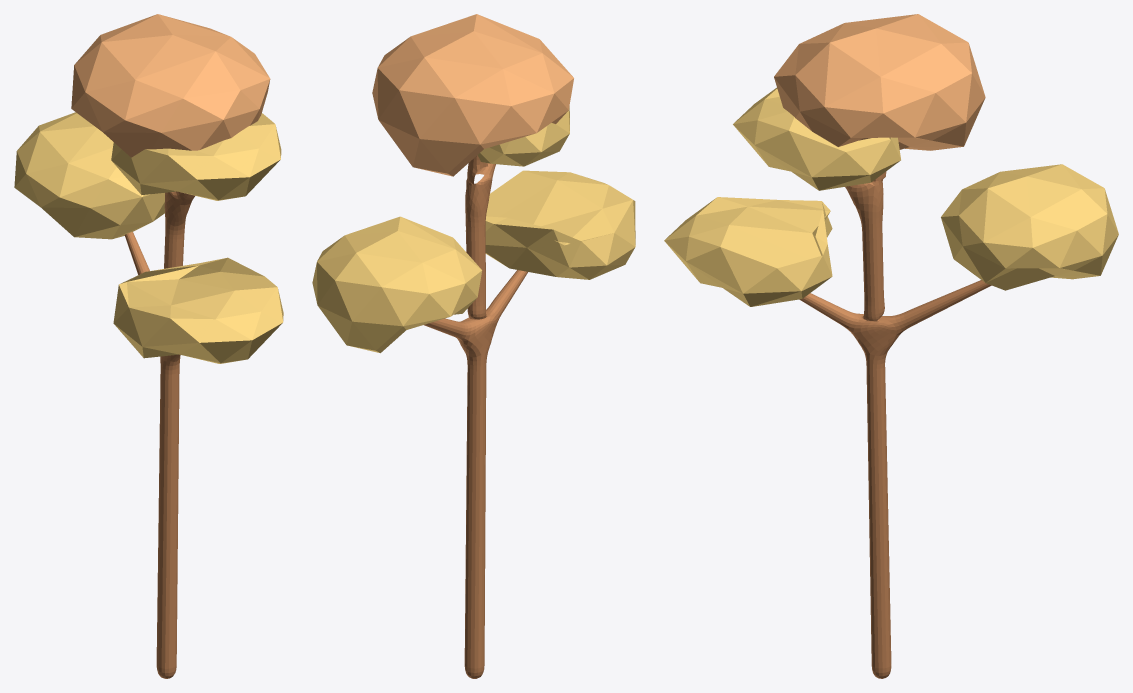
The model's file is tree21.gltf.
3 renders of one model, left to right at view 1: azimuth 30°, elevation 25°; view 2: azimuth 150°, elevation 25°; view 3: azimuth 270°, elevation 25°, orthographic.
Parts seen in each view (by area): view 1: Icosphere.001, Icosphere.003, Icosphere.002, Cube, Icosphere; view 2: Icosphere.001, Icosphere.002, Icosphere.003, Cube, Icosphere; view 3: Icosphere.001, Icosphere.002, Icosphere.003, Cube, Icosphere.
Part boxes in pixels (left/top/right/bottom): Icosphere.001: left=71, top=14, right=270, bottom=157; Icosphere.003: left=113, top=257, right=283, bottom=363; Icosphere.002: left=14, top=112, right=164, bottom=239; Cube: left=124, top=191, right=194, bottom=678; Icosphere: left=111, top=113, right=281, bottom=200; Icosphere.001: left=372, top=14, right=573, bottom=176; Icosphere.002: left=312, top=216, right=482, bottom=353; Icosphere.003: left=465, top=170, right=635, bottom=279; Cube: left=424, top=155, right=527, bottom=678; Icosphere: left=477, top=106, right=569, bottom=166; Icosphere.001: left=774, top=14, right=985, bottom=150; Icosphere.002: left=941, top=164, right=1118, bottom=290; Icosphere.003: left=664, top=197, right=832, bottom=306; Cube: left=799, top=171, right=991, bottom=678; Icosphere: left=733, top=87, right=900, bottom=190.
Bounding box in the file's own units: 2.49 × 8.41 × 5.32.
